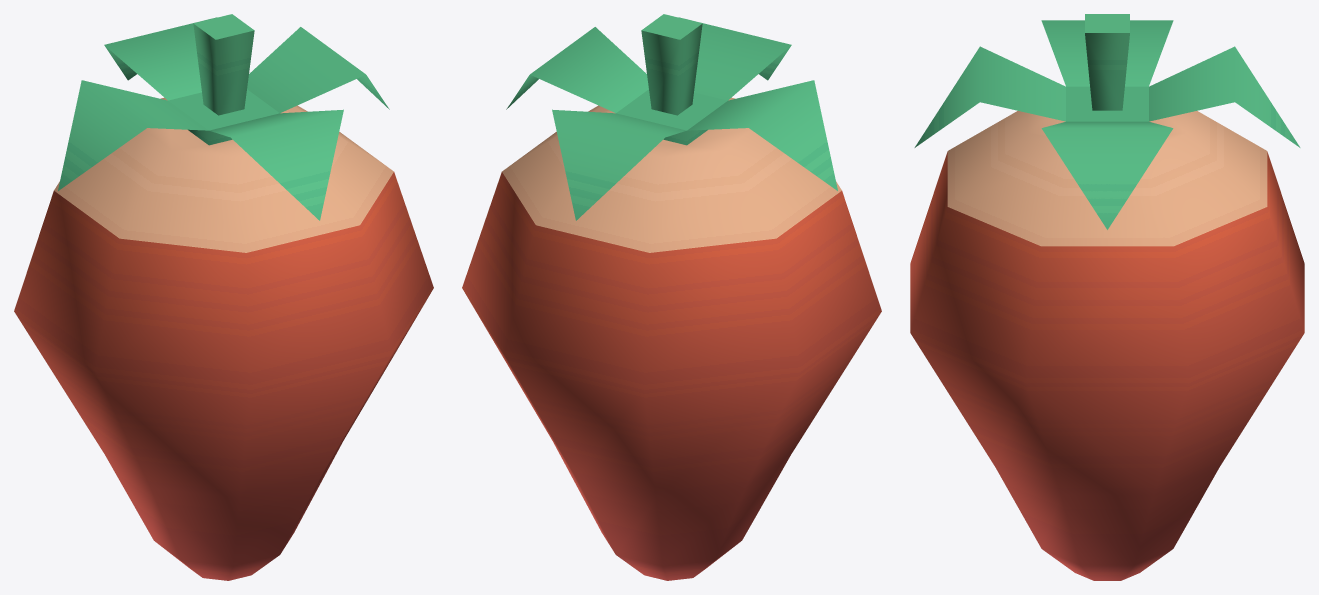
Rendered from strawberry.glb.
3 views of the same model, side by side, from view 1: azimuth 30°, elevation 25°; view 2: azimuth 150°, elevation 25°; view 3: azimuth 270°, elevation 25° (orthographic).
Visible parts, largest first — view 1: strawberry; view 2: strawberry; view 3: strawberry.
Boxes of the visible parts, box(x1,y1,x2,y2) form: strawberry: box(14, 14, 433, 580); strawberry: box(462, 14, 881, 580); strawberry: box(910, 14, 1304, 580).
Size of the model in its own units: 0.1197 by 0.182 by 0.1197.
Materials: 1 (1 with a texture image).
